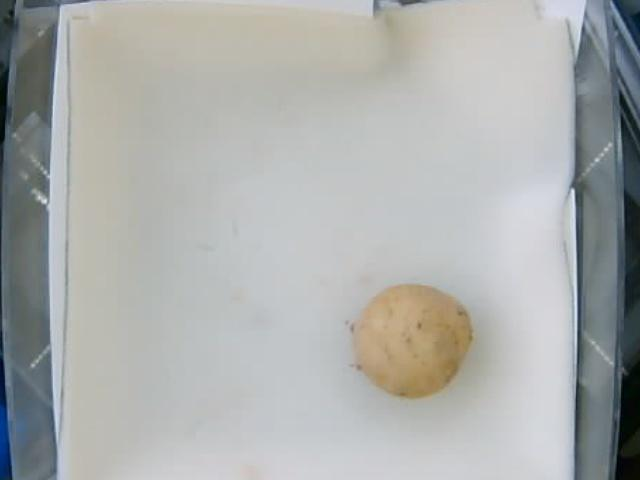Potato: (350, 281, 470, 400)
